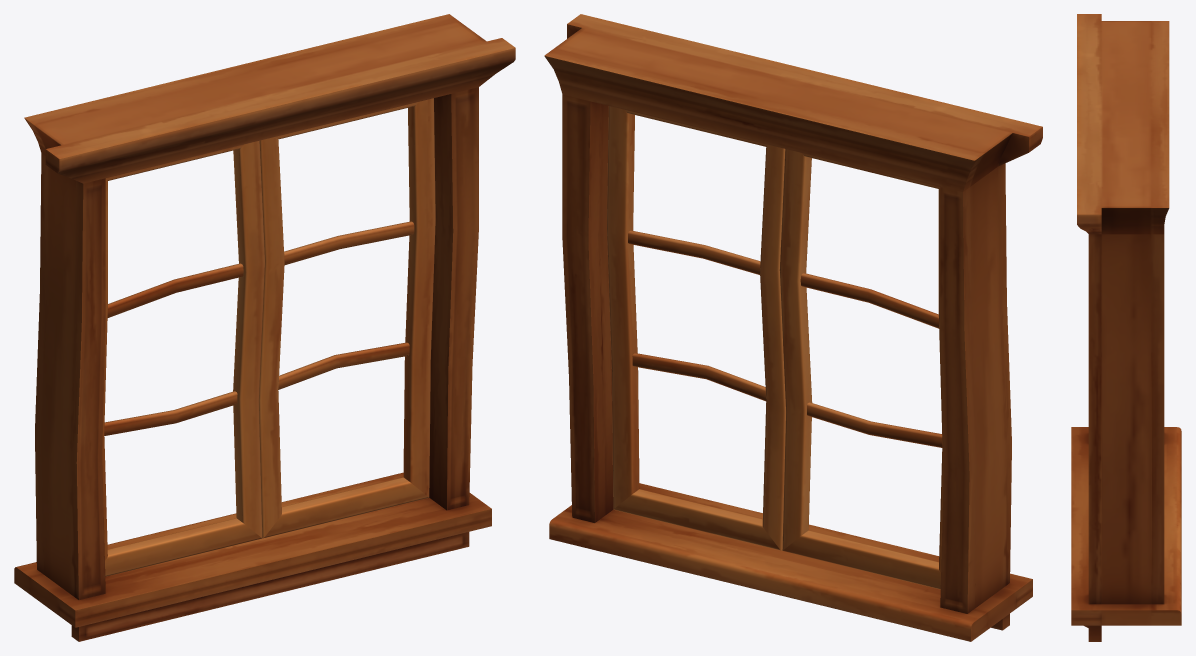
The model's file is PropWindow01TypeE_2_1.FBX.
3 views of the same model, side by side, from view 1: azimuth 30°, elevation 25°; view 2: azimuth 150°, elevation 25°; view 3: azimuth 270°, elevation 25° (orthographic). The views are drawn at different scales.
Parts seen in each view (by area): view 1: PropWindow01TypeE_2_1; view 2: PropWindow01TypeE_2_1; view 3: PropWindow01TypeE_2_1.
Boxes of the visible parts, x1,y1,x2,y2 form: PropWindow01TypeE_2_1: [14, 14, 515, 641]; PropWindow01TypeE_2_1: [544, 14, 1042, 641]; PropWindow01TypeE_2_1: [1071, 14, 1181, 641].
Size of what is drawn, in the model's own units: 1.92 by 1.98 by 0.4449.
